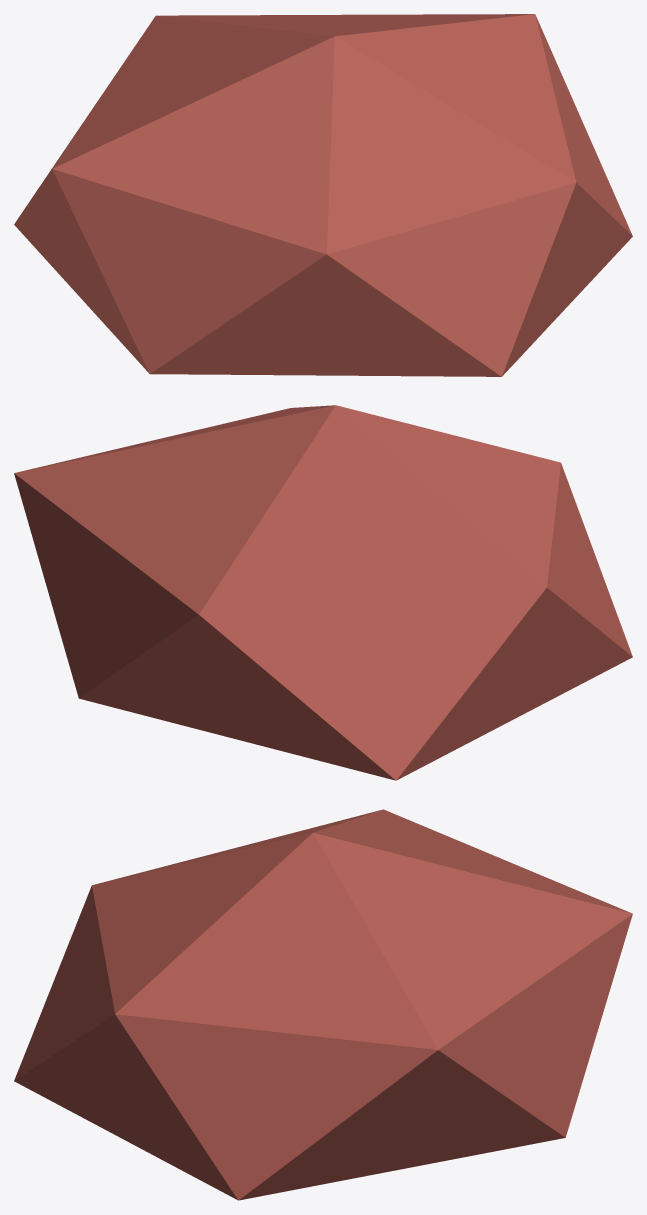
Rendered from Rock_Boulder_M.fbx.
3 renders of one model, top to bottom at view 1: azimuth 30°, elevation 25°; view 2: azimuth 150°, elevation 25°; view 3: azimuth 270°, elevation 25°, orthographic.
Visible parts, largest first — view 1: Rock_Boulder_M; view 2: Rock_Boulder_M; view 3: Rock_Boulder_M.
Part boxes in pixels (x1,y1,x2,y2): Rock_Boulder_M: (14, 14, 632, 376); Rock_Boulder_M: (14, 405, 632, 780); Rock_Boulder_M: (14, 809, 632, 1200).
Bounding box in the file's own units: 2.62 × 1.16 × 2.73.
